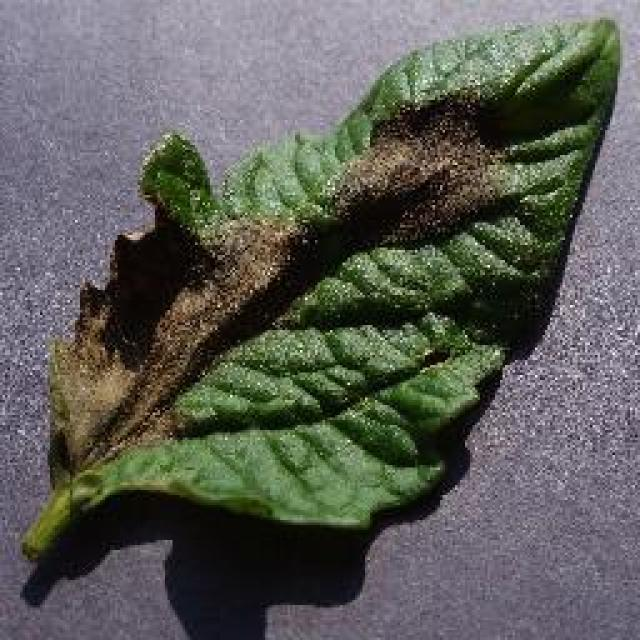Tomato late blight leaf: (24, 22, 614, 608)
